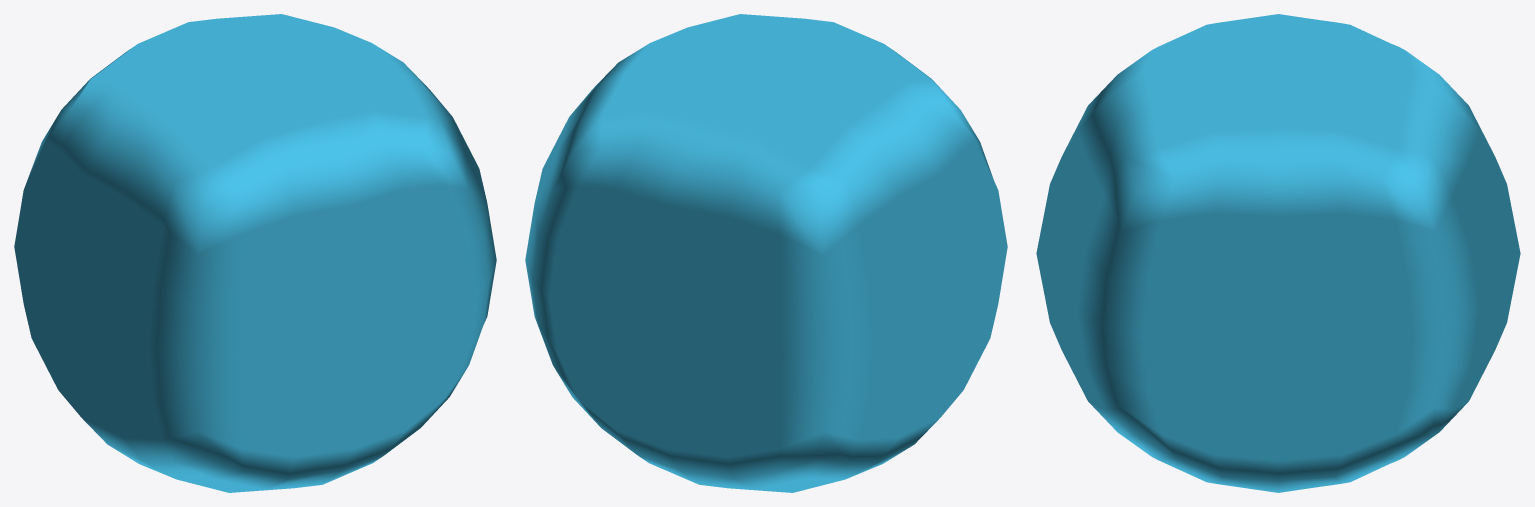
Rendered from ball.glb.
The picture shows the model from 3 angles, left to right: view 1: azimuth 30°, elevation 25°; view 2: azimuth 150°, elevation 25°; view 3: azimuth 270°, elevation 25°; orthographic projection.
Visible parts, largest first — view 1: Cube; view 2: Cube; view 3: Cube.
Part boxes in pixels (x1,y1,x2,y2): Cube: (14, 14, 496, 492); Cube: (525, 14, 1007, 492); Cube: (1036, 14, 1520, 492).
Bounding box in the file's own units: 1 × 1 × 1.
